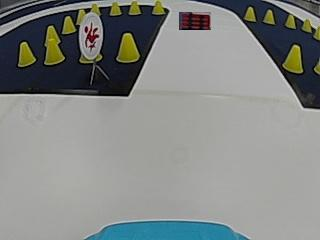cone: (117, 31, 140, 63), (43, 37, 65, 65), (283, 46, 304, 72), (16, 41, 35, 68), (63, 15, 76, 34), (45, 24, 57, 42), (243, 7, 256, 23), (89, 4, 101, 20), (129, 1, 141, 17), (264, 9, 275, 25), (153, 2, 164, 17), (110, 0, 120, 16), (302, 16, 312, 31), (287, 14, 296, 29)
tumble: (79, 15, 103, 52)
